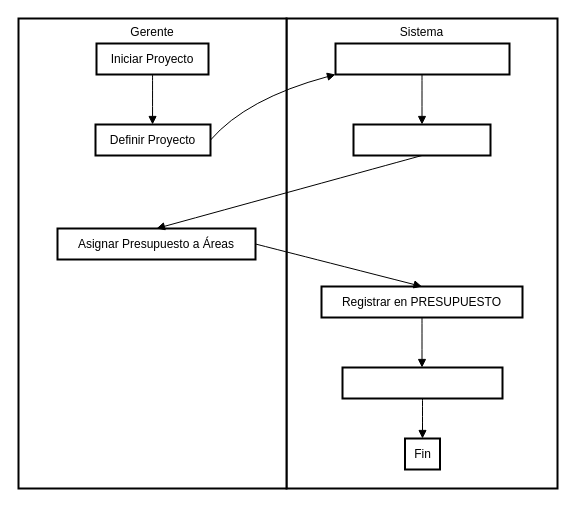
Some shapes in this 575 by 506 pixel diagram are drawn without their labels. The centre of each missing label's shape, as x and y in pixels:
"Presupuesto registrado" belongs at (x=422, y=382).
"Proyecto registrado" belongs at (x=421, y=139).
"Registrar en PROYECTO" belongs at (x=422, y=58).
